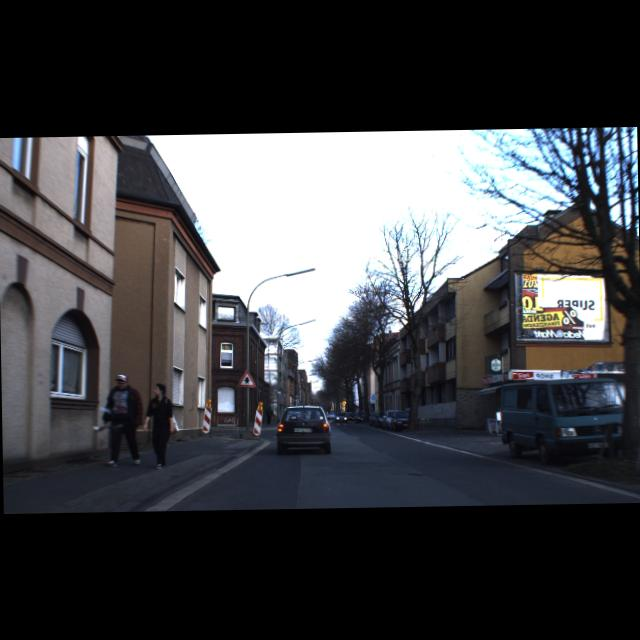danger: (237, 370, 256, 388)
